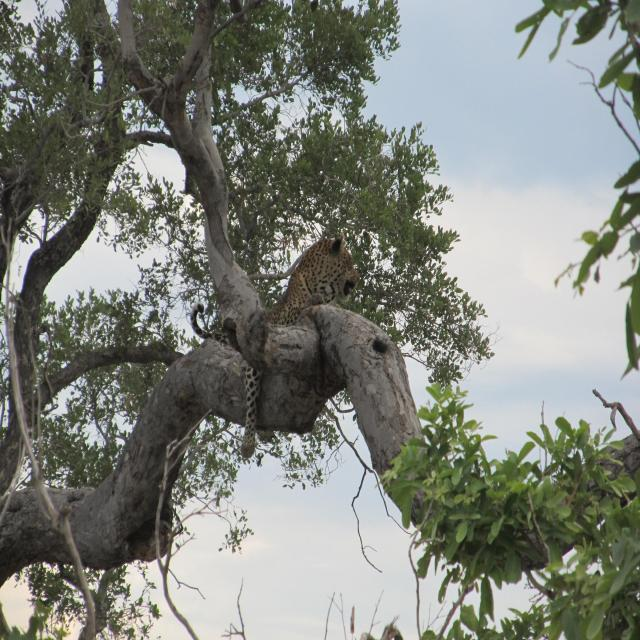Leopard: (190, 239, 374, 477)
